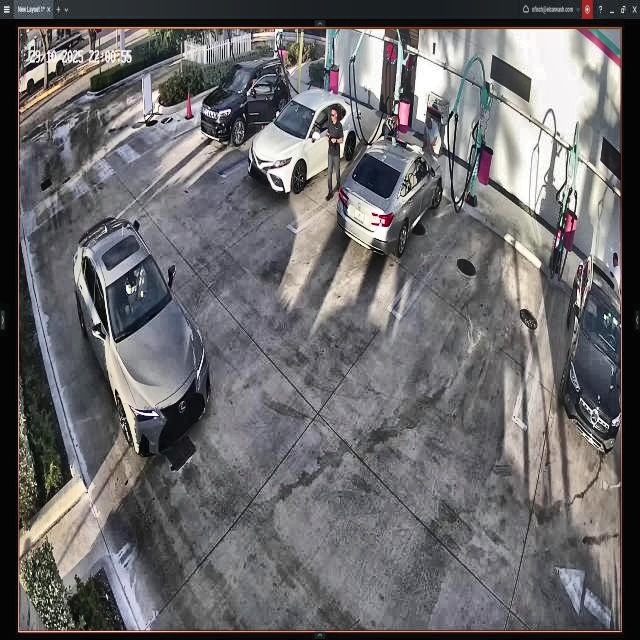Car: (74, 216, 210, 454), (339, 134, 441, 257), (249, 89, 362, 190), (203, 54, 290, 149)
